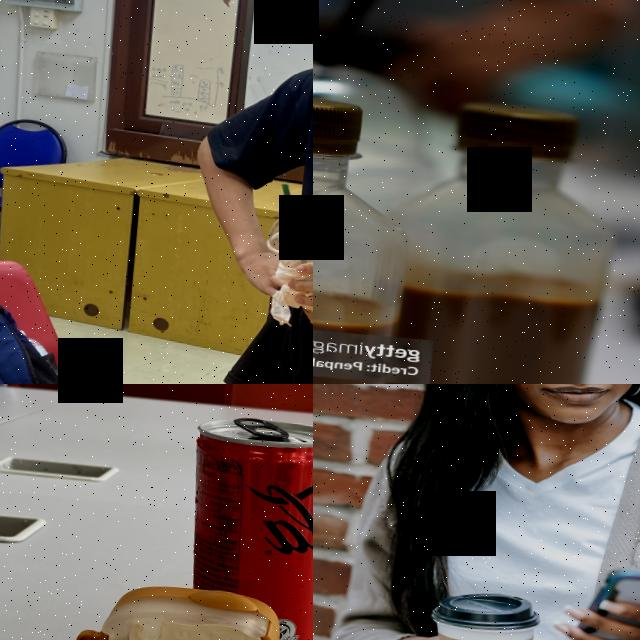bottle: (371, 95, 630, 384), (313, 80, 421, 384)
can: (169, 406, 313, 640)
cup: (258, 205, 313, 332), (420, 588, 539, 640)
